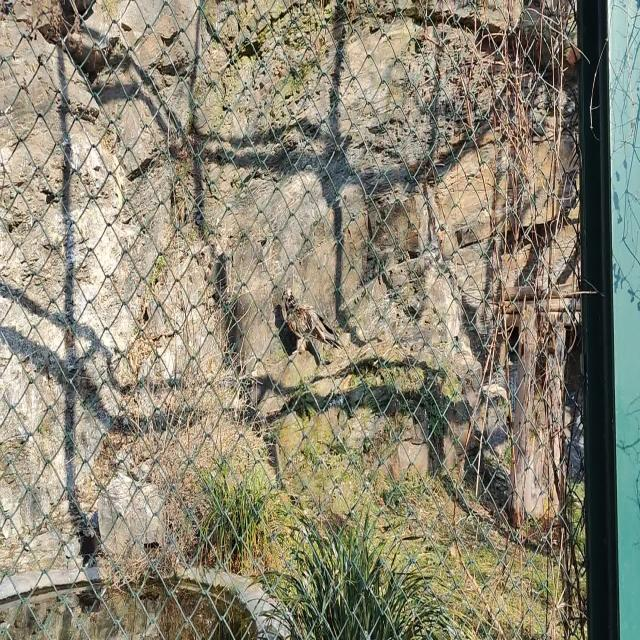bird: (282, 289, 344, 355)
